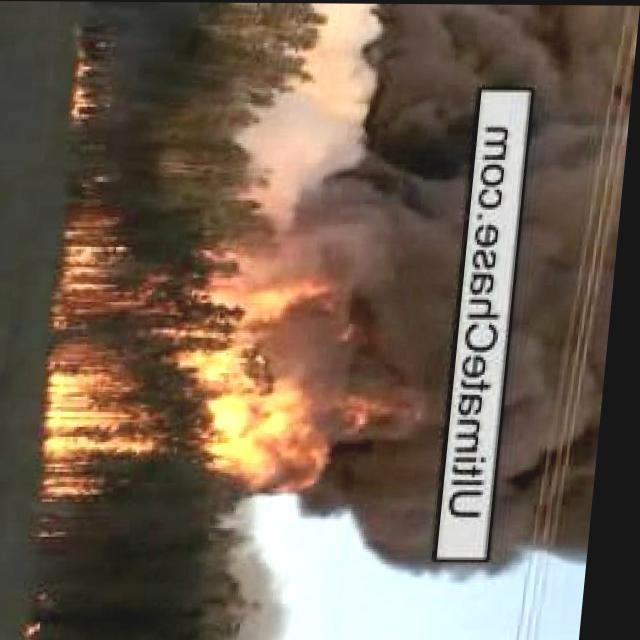Fire: (49, 204, 400, 487), (72, 33, 110, 131)
Smoke: (337, 2, 484, 567), (505, 3, 640, 566)
